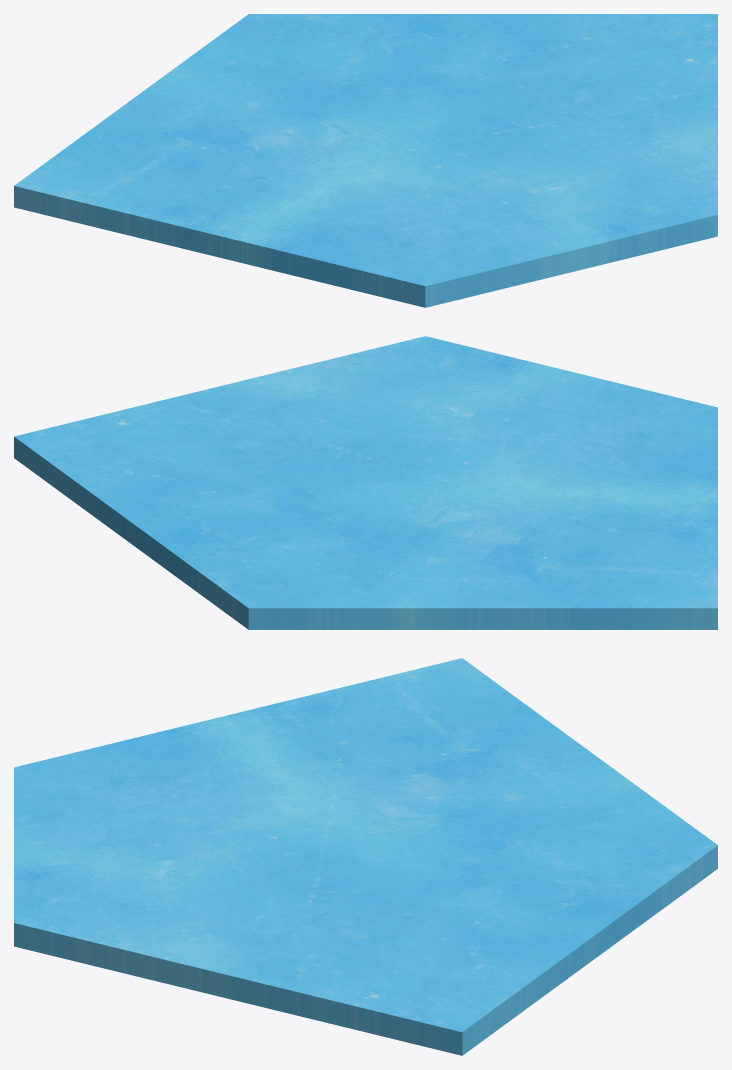
The model's file is stage_52_ice.fbx.
3 renders of one model, top to bottom at view 1: azimuth 30°, elevation 25°; view 2: azimuth 150°, elevation 25°; view 3: azimuth 270°, elevation 25°, orthographic. The views are drawn at different scales.
Parts seen in each view (by area): view 1: Cylinder.054; view 2: Cylinder.054; view 3: Cylinder.054.
Boxes of the visible parts, x1,y1,x2,y2 form: Cylinder.054: (14, 14, 717, 307); Cylinder.054: (14, 336, 717, 629); Cylinder.054: (14, 658, 717, 1055).
Size of the model in its own units: 2208 by 64.78 by 1755.
1 material, 1 textured.
